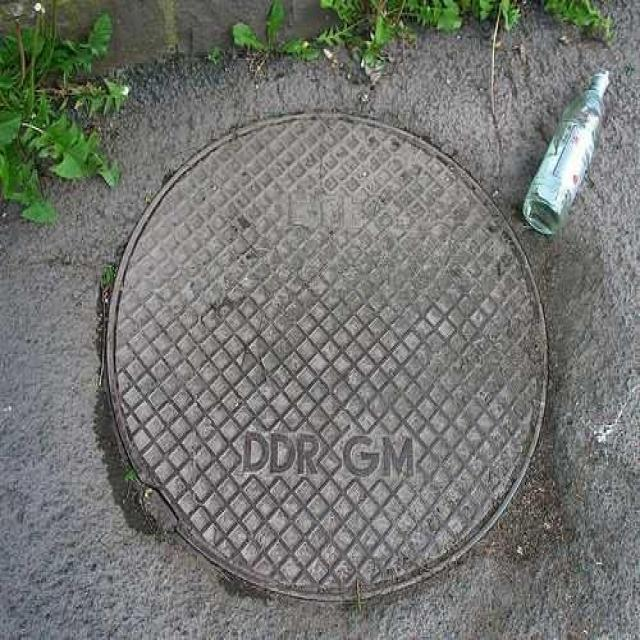manhole: (107, 114, 544, 600)
